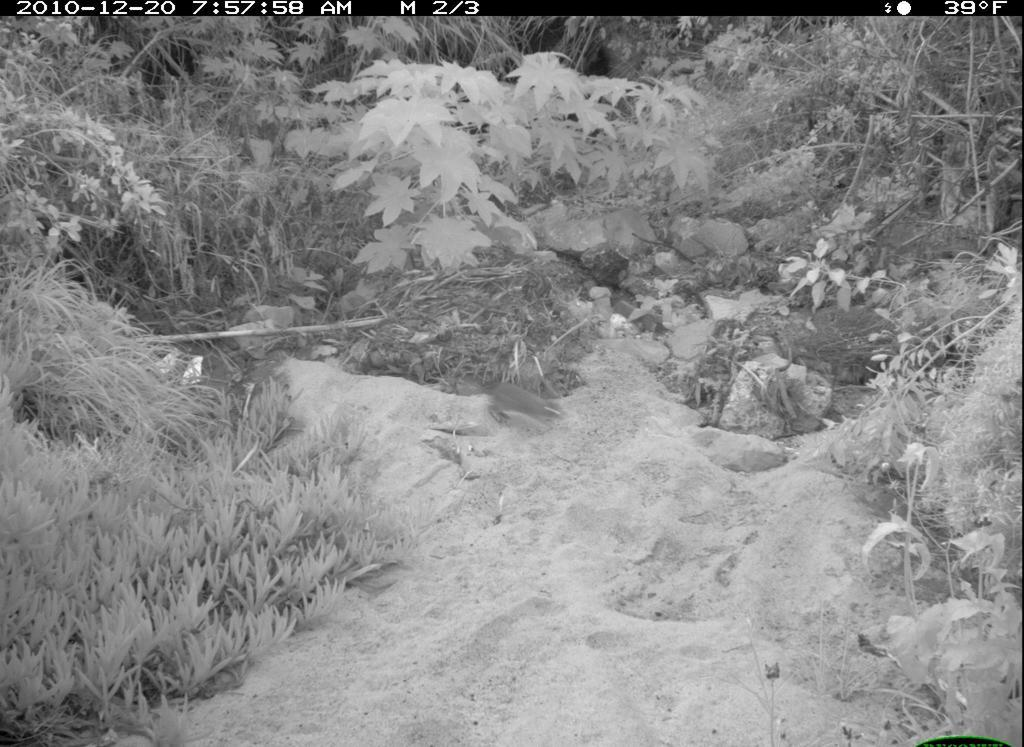rabbit: (479, 372, 577, 449)
